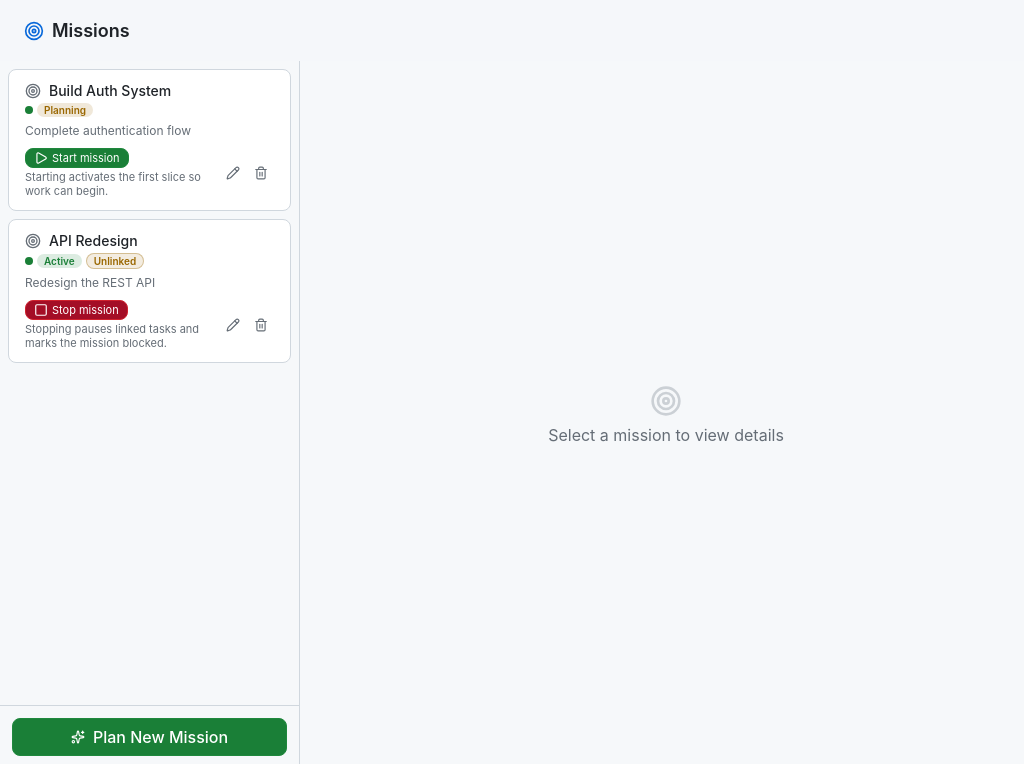
Test: MissionManager mobile swipe-back › does not push a nav entry after desktop mission selection or tab switching
Step 1. Click the text "Build Auth System" → (110, 90), box x1=49 y1=82 x2=171 y2=99
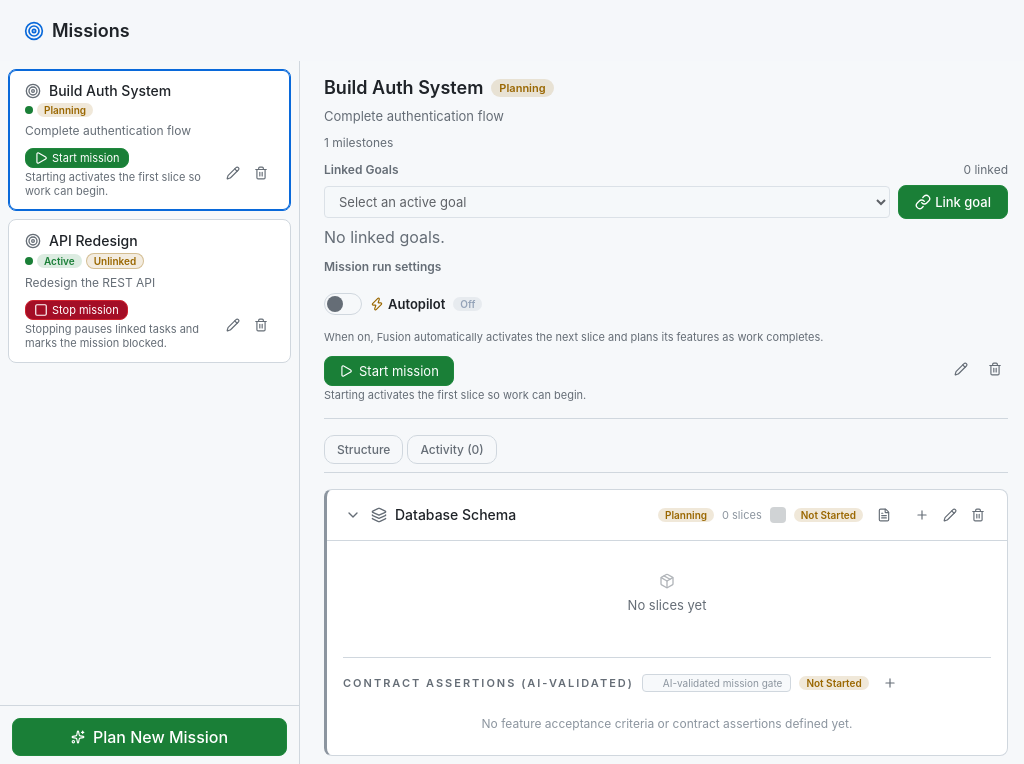
Now the text "Database Schema" is shown, box x1=395 y1=506 x2=516 y2=523
Now the tab with test id "mission-tab-activity" is shown
Step 2. Click the tab with test id "mission-tab-activity" → (452, 449), box x1=407 y1=435 x2=497 y2=464
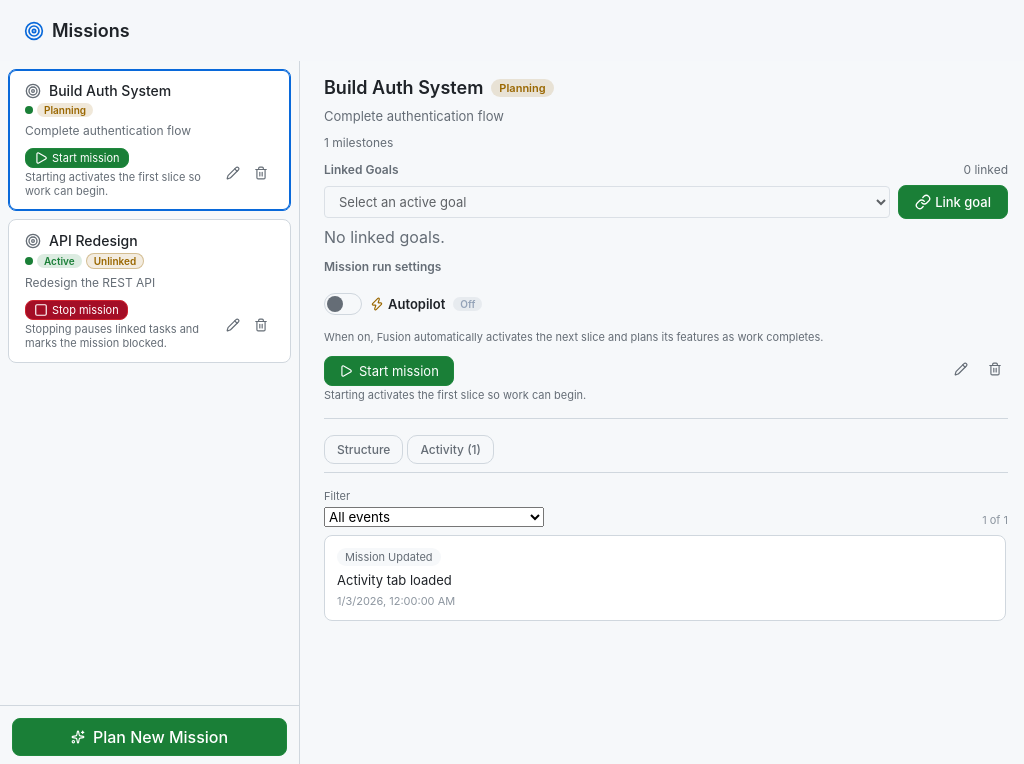
Now the element with test id "mission-activity-tab" is shown, box x1=324 y1=489 x2=1008 y2=629
Now the text "Activity tab loaded" is shown, box x1=337 y1=572 x2=452 y2=588
Step 3. Click the tab with test id "mission-tab-structure" → (364, 449), box x1=324 y1=435 x2=403 y2=464
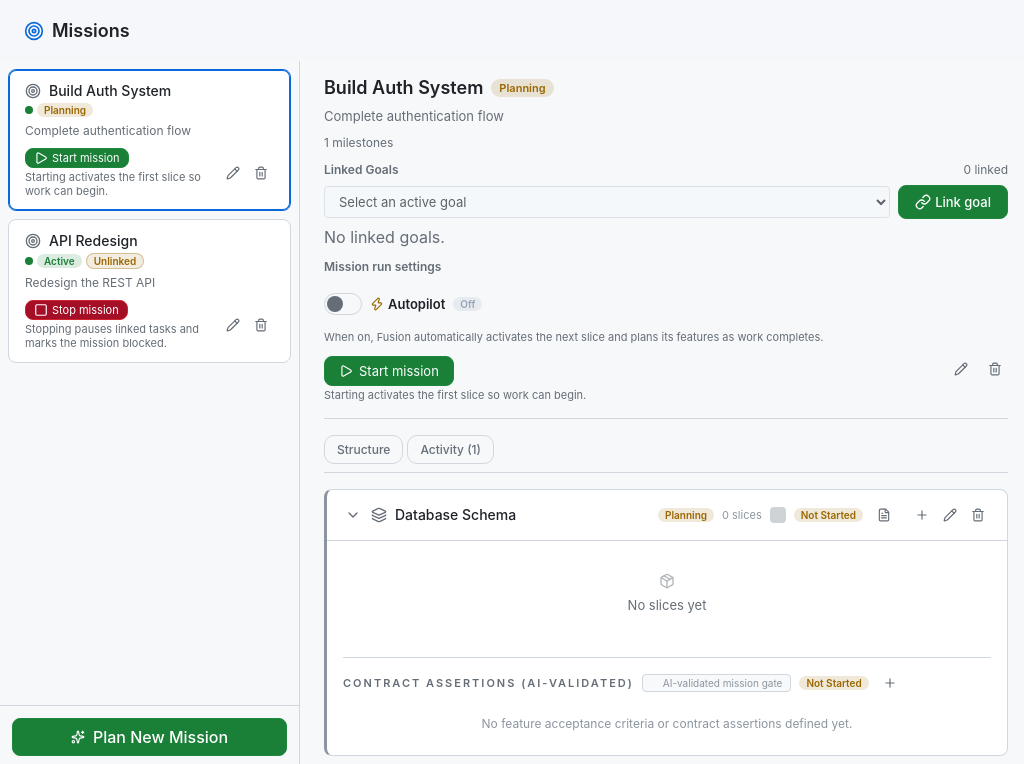
Now the text "Database Schema" is shown, box x1=395 y1=506 x2=516 y2=523
